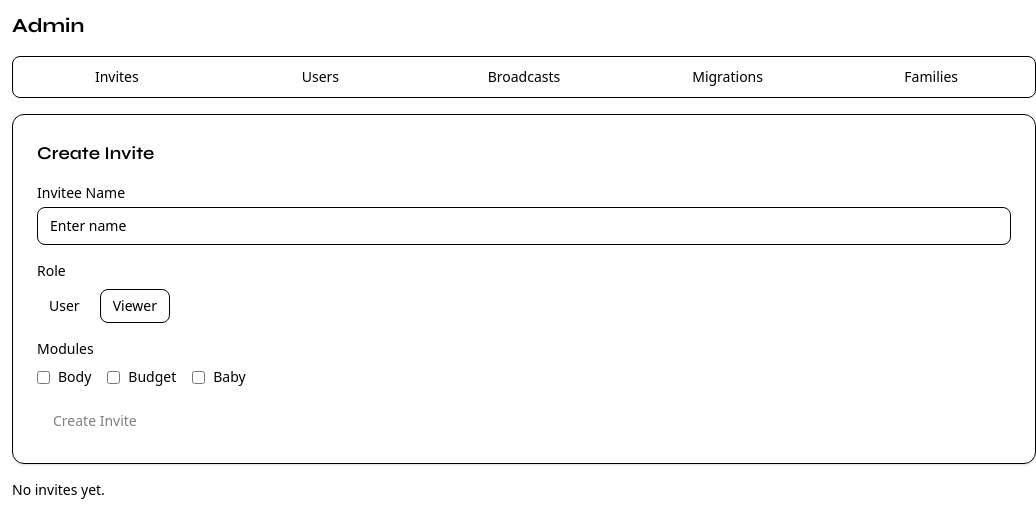
it: AdminPanel › switches back to Invites tab
This screenshot has width=1036, height=516.
Click the button "Users": [320, 77] box [221,61,420,93]
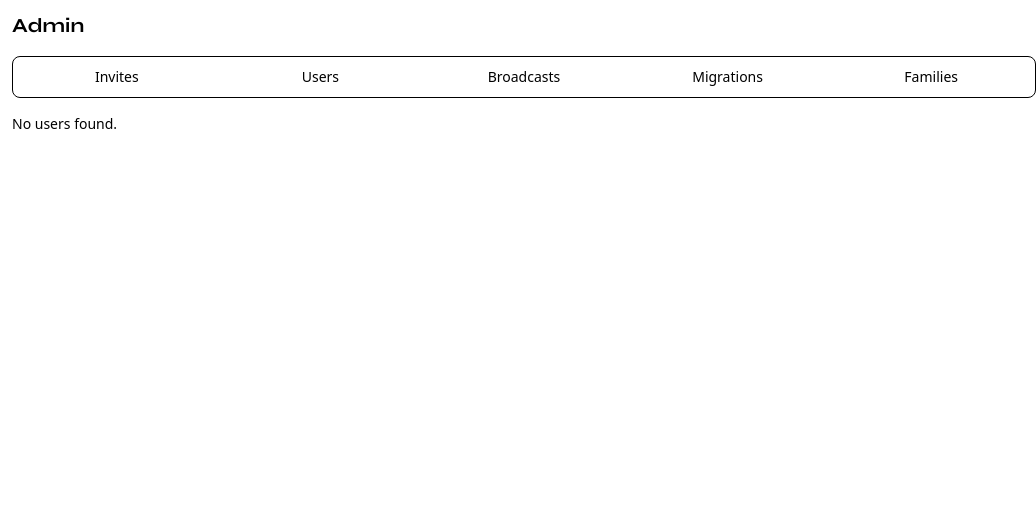
Click the button "Invites": [117, 77] box [17,61,217,93]
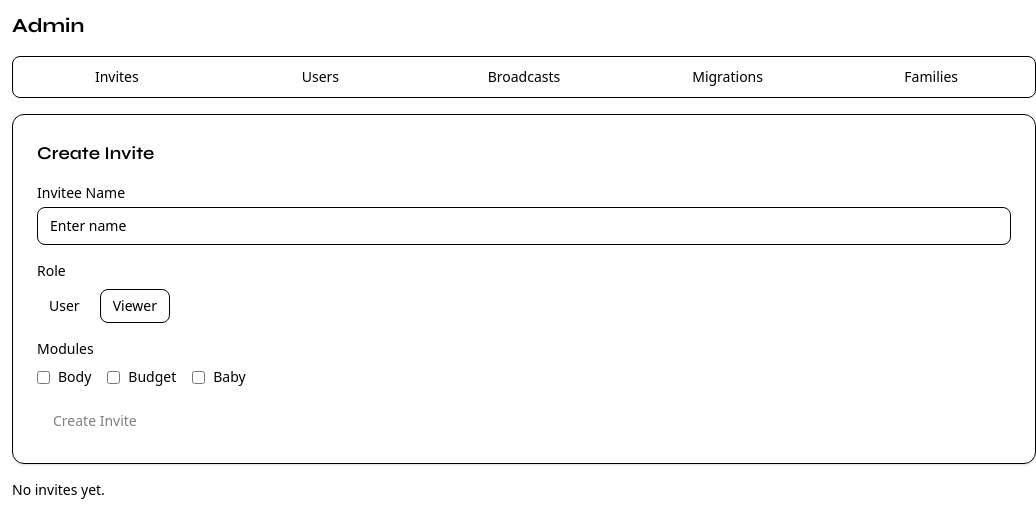
Now the heading "Create Invite" is shown, box [37,142,154,164]
